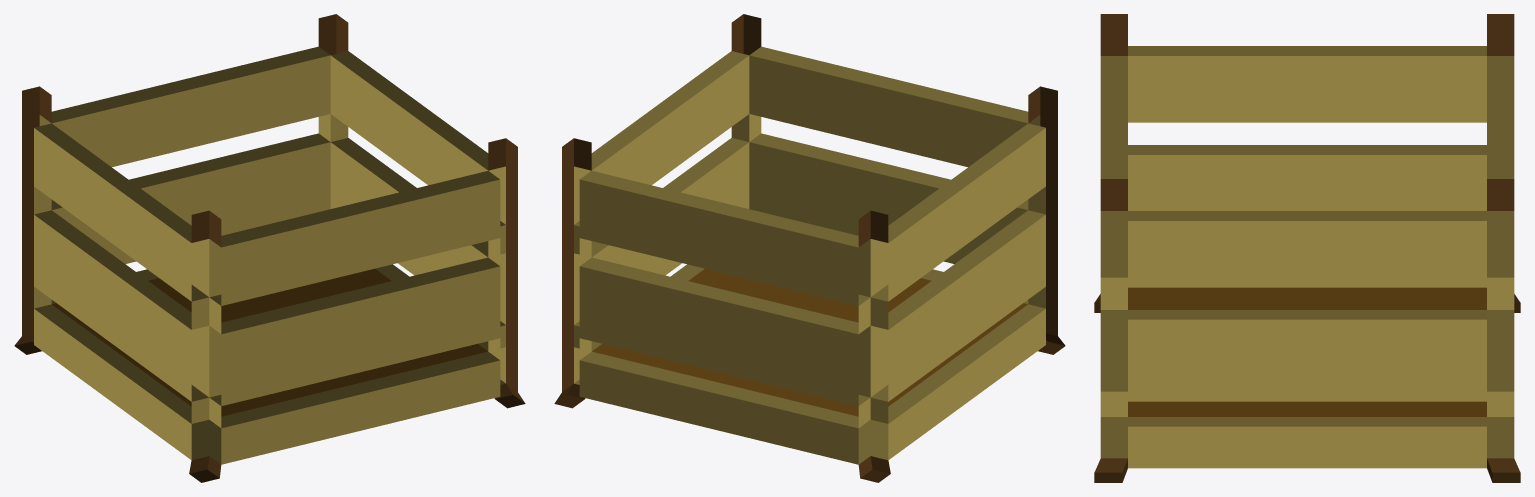
The model's file is Wooden Container 2.fbx.
The picture shows the model from 3 angles, left to right: view 1: azimuth 30°, elevation 25°; view 2: azimuth 150°, elevation 25°; view 3: azimuth 270°, elevation 25°; orthographic projection. The views are drawn at different scales.
Visible parts, largest first — view 1: Node 0; view 2: Node 0; view 3: Node 0.
Boxes of the visible parts, x1,y1,x2,y2 form: Node 0: (14, 14, 525, 482); Node 0: (554, 14, 1065, 482); Node 0: (1094, 14, 1520, 482).
Size of the model in its own units: 0.8751 by 0.6604 by 0.8751.
